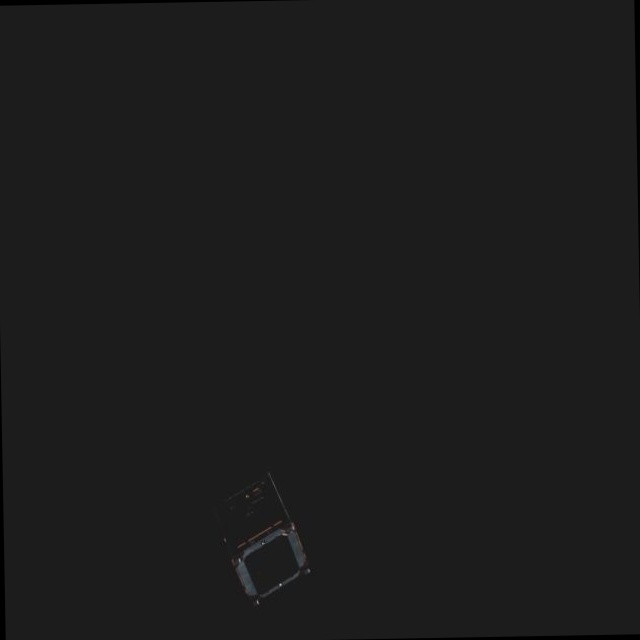medium_debris: (205, 462, 316, 613)
